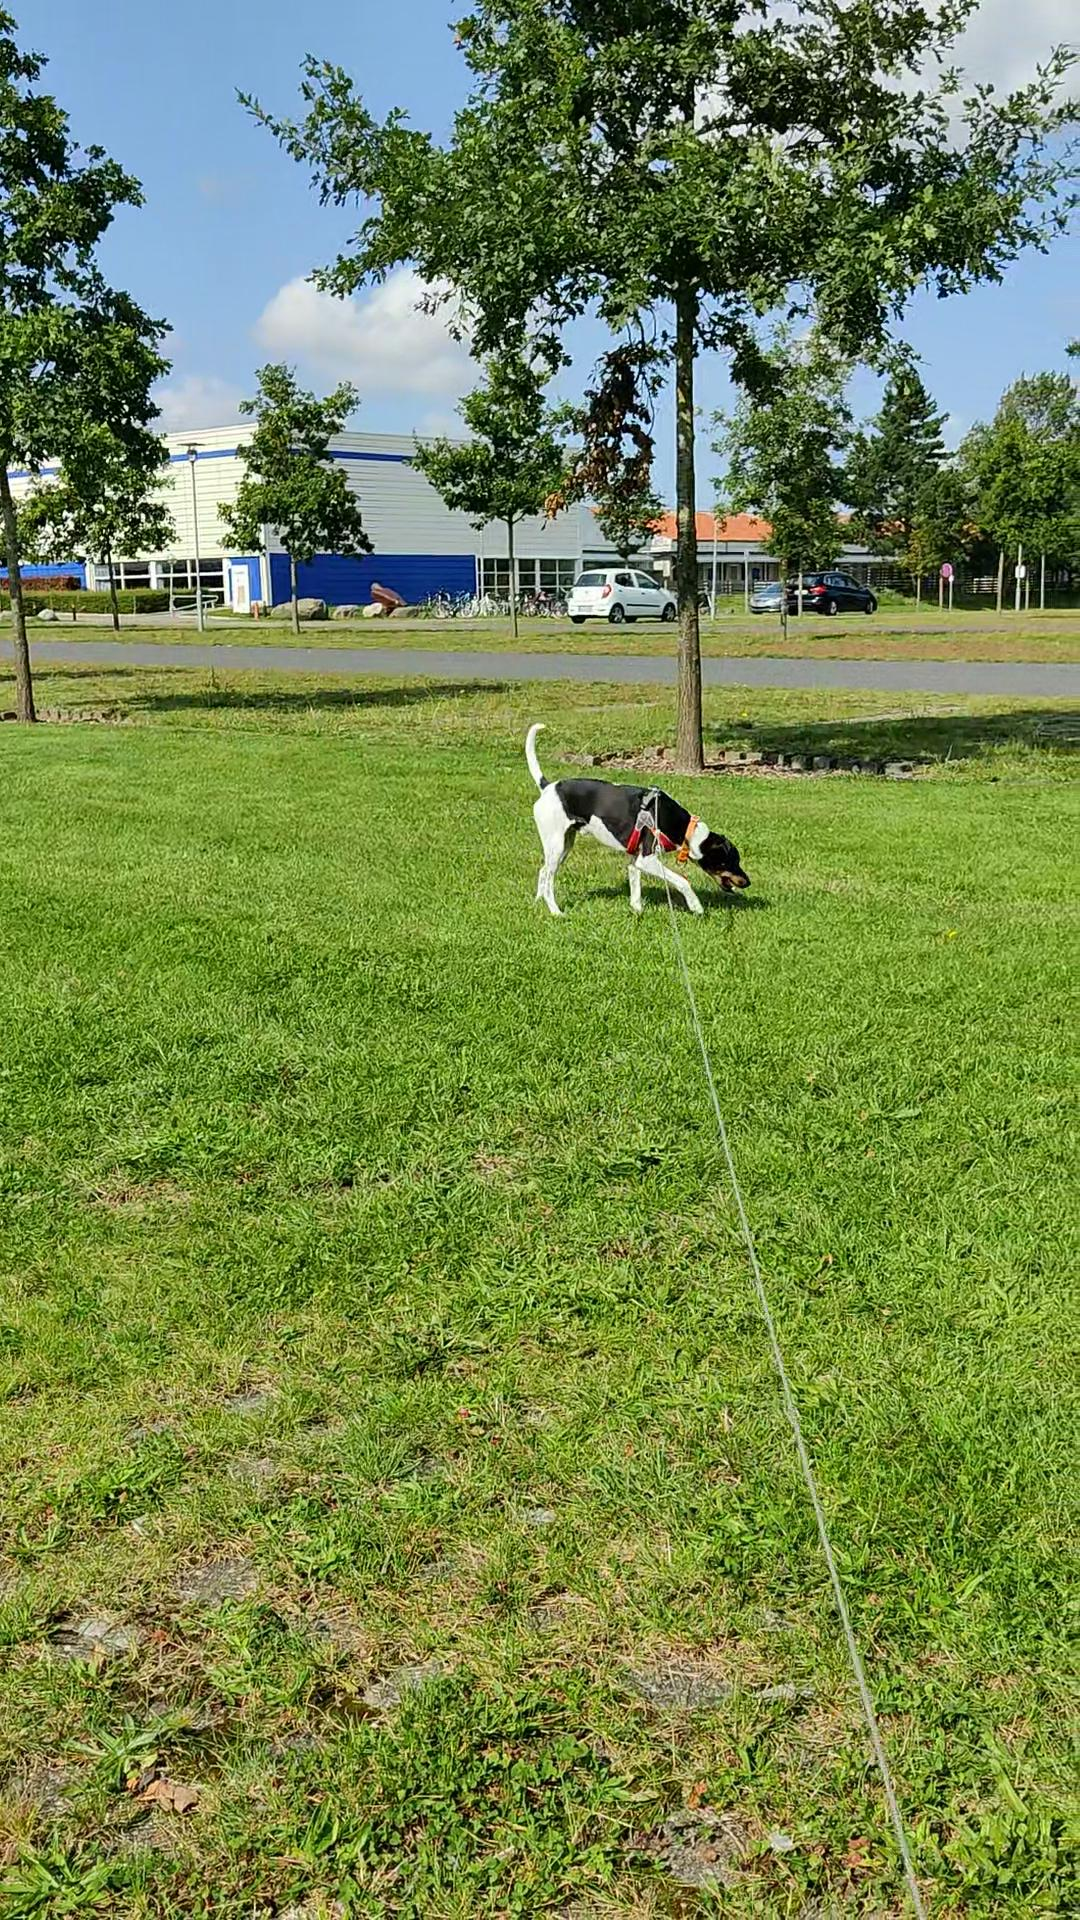Dog: (516, 709, 758, 923)
